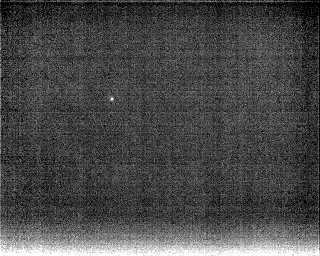BIRD: (108, 94, 117, 105)
